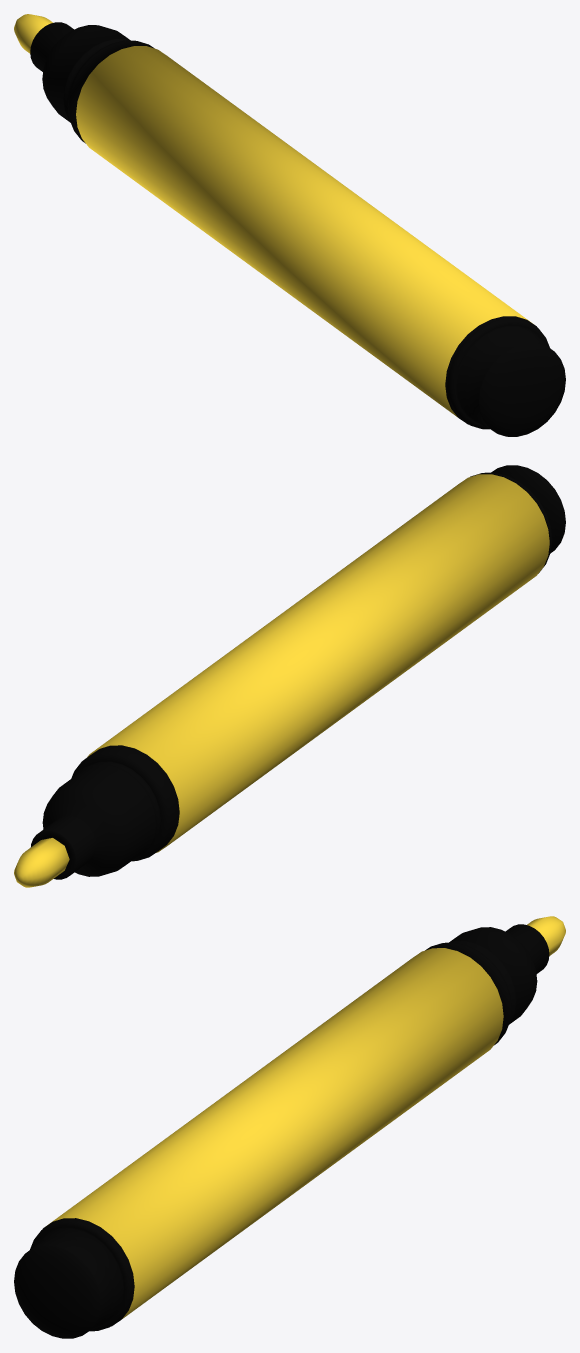
File: marker.fbx
The picture shows the model from 3 angles, top to bottom: view 1: azimuth 30°, elevation 25°; view 2: azimuth 150°, elevation 25°; view 3: azimuth 330°, elevation 25°; orthographic projection.
Parts seen in each view (by area): view 1: marker; view 2: marker; view 3: marker.
Boxes of the visible parts, x1,y1,x2,y2 form: marker: (14,14,565,436); marker: (14,465,565,887); marker: (14,916,565,1338).
Bounding box in the file's own units: 2.05 × 2.03 × 17.22.
